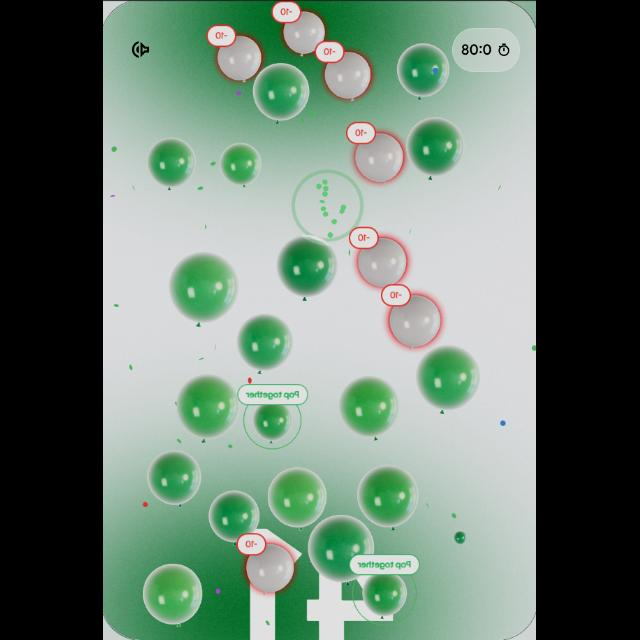hazard: (377, 279, 445, 351), (345, 116, 409, 192), (347, 226, 418, 294), (230, 526, 296, 596), (312, 38, 376, 110), (203, 20, 265, 90), (270, 0, 332, 62)
safe: (163, 252, 243, 328), (412, 344, 488, 416), (306, 515, 376, 585), (355, 461, 423, 533), (336, 376, 404, 442), (275, 234, 339, 302), (248, 61, 314, 126), (142, 563, 206, 629), (263, 470, 333, 530), (392, 40, 456, 104), (180, 371, 237, 442), (407, 116, 465, 184), (236, 315, 298, 377), (144, 449, 208, 509), (206, 486, 266, 548), (144, 130, 198, 190), (222, 144, 260, 188)
safe-pair: (350, 552, 422, 632), (238, 381, 308, 454)
